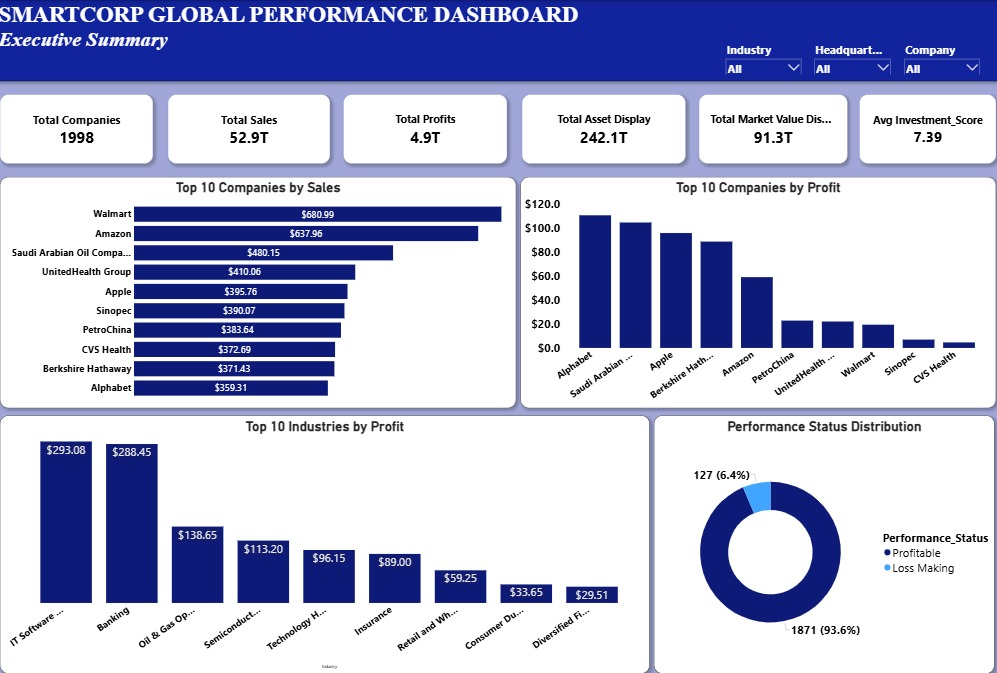

Layout of this report page (visuals, bound fields, positions):
{"tool":"powerbi","page":{"name":"Executive Summary","canvas":[3550,2400],"ordinal":0},"visuals":[{"type":"textbox","box":[0,0,3550,286.7],"z":1000},{"type":"cardVisual","fields":{"Data":["Sheet11.Total Assets"]},"box":[1855.7,334,577.9,243.9],"z":2000},{"type":"cardVisual","fields":{"Data":["Sheet11.Total Profit($)"]},"box":[1224.8,334,577.9,243.9],"z":3000},{"type":"cardVisual","fields":{"Data":["Sheet11.Total Market Value"]},"box":[2481.4,334,524.9,243.9],"z":4000},{"type":"slicer","fields":{"Values":["Sheet11.Company"]},"box":[3196.7,143.3,286.7,120],"z":6000},{"type":"slicer","fields":{"Values":["Sheet11.Headquarters"]},"box":[2876.7,143.3,290,120],"z":7000},{"type":"slicer","fields":{"Values":["Sheet11.Industry"]},"box":[2566.7,143.3,286.7,120],"z":8000},{"type":"barChart","title":"Top 10 Companies by Sales","fields":{"Category":["Sheet11.Company"],"Y":["Sum(Sheet11.Sales_$B)"]},"box":[10.6,625.6,1823.9,816.5],"z":9000},{"type":"columnChart","title":"Top 10 Companies by Profit","fields":{"Category":["Sheet11.Company"],"Y":["Sum(Sheet11.Profit_$B)"]},"box":[1850.4,625.6,1680.7,816.5],"z":10000},{"type":"donutChart","title":"Performance Status Distribution","fields":{"Category":["Sheet11.Performance_Status"],"Y":["CountNonNull(Sheet11.Company)"]},"box":[2322.3,1468.7,1203.6,912],"z":11000},{"type":"columnChart","title":"Top 10 Industries by Profit ","fields":{"Category":["Sheet11.Industry"],"Y":["Sum(Sheet11.Profit_$B)"]},"box":[10.6,1468.7,2295.8,912],"z":12000},{"type":"cardVisual","fields":{"Data":["Sheet11.Total Sales($)"]},"box":[604.4,334,572.6,243.9],"z":14000},{"type":"cardVisual","fields":{"Data":["Sheet11.Total Companies"]},"box":[10.6,334,540.8,243.9],"z":15000},{"type":"cardVisual","fields":{"Data":["Sheet11.Avg Investment_Score"]},"box":[3048.7,334,482.5,243.9],"z":16000}]}

Visuals, with their boxes in screenshot pixels (x1, y1, x2, y2), scaled from the page's 3550x2400 canvas onto the 997x673 screenshot:
textbox: [0, 0, 996, 80]
cardVisual - Sheet11.Total Assets: [521, 94, 683, 162]
cardVisual - Sheet11.Total Profit($): [344, 94, 506, 162]
cardVisual - Sheet11.Total Market Value: [697, 94, 844, 162]
slicer - Sheet11.Company: [898, 40, 978, 74]
slicer - Sheet11.Headquarters: [808, 40, 889, 74]
slicer - Sheet11.Industry: [721, 40, 801, 74]
"Top 10 Companies by Sales" barChart: [3, 175, 515, 404]
"Top 10 Companies by Profit" columnChart: [520, 175, 992, 404]
"Performance Status Distribution" donutChart: [652, 412, 990, 668]
"Top 10 Industries by Profit " columnChart: [3, 412, 648, 668]
cardVisual - Sheet11.Total Sales($): [170, 94, 331, 162]
cardVisual - Sheet11.Total Companies: [3, 94, 155, 162]
cardVisual - Sheet11.Avg Investment_Score: [856, 94, 992, 162]
